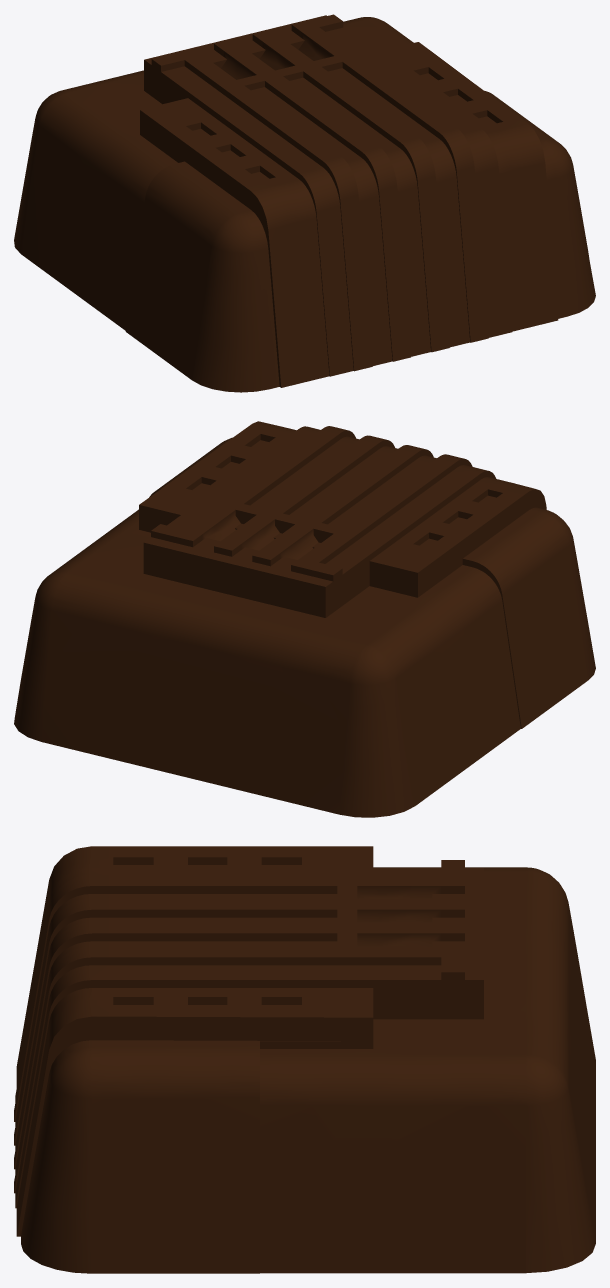
Rendered from chocolatePillow.gltf.
The picture shows the model from 3 angles, top to bottom: view 1: azimuth 30°, elevation 25°; view 2: azimuth 150°, elevation 25°; view 3: azimuth 270°, elevation 25°; orthographic projection. The views are drawn at different scales.
Visible parts, largest first — view 1: Object_2; view 2: Object_2; view 3: Object_2.
Boxes of the visible parts, left/top/right/bottom form: Object_2: left=14, top=14, right=595, bottom=392; Object_2: left=14, top=421, right=595, bottom=817; Object_2: left=14, top=846, right=595, bottom=1273.
Size of the model in its own units: 33.21 by 15 by 33.53.
